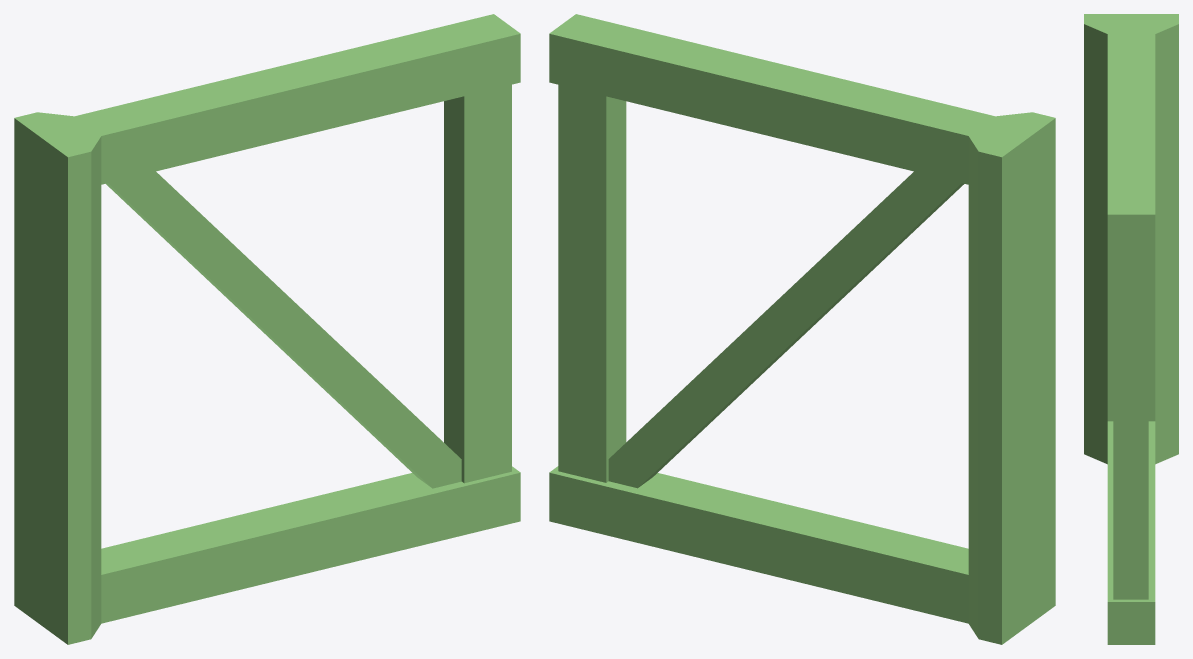
Rendered from Lattice_End.fbx.
3 views of the same model, side by side, from view 1: azimuth 30°, elevation 25°; view 2: azimuth 150°, elevation 25°; view 3: azimuth 270°, elevation 25° (orthographic). The views are drawn at different scales.
Visible parts, largest first — view 1: Lattice_End; view 2: Lattice_End; view 3: Lattice_End.
Boxes of the visible parts, x1=… form: Lattice_End: x1=14, y1=14, x2=520, y2=644; Lattice_End: x1=549, y1=14, x2=1055, y2=644; Lattice_End: x1=1084, y1=14, x2=1178, y2=644.
Size of the model in its own units: 150 by 150 by 30.
